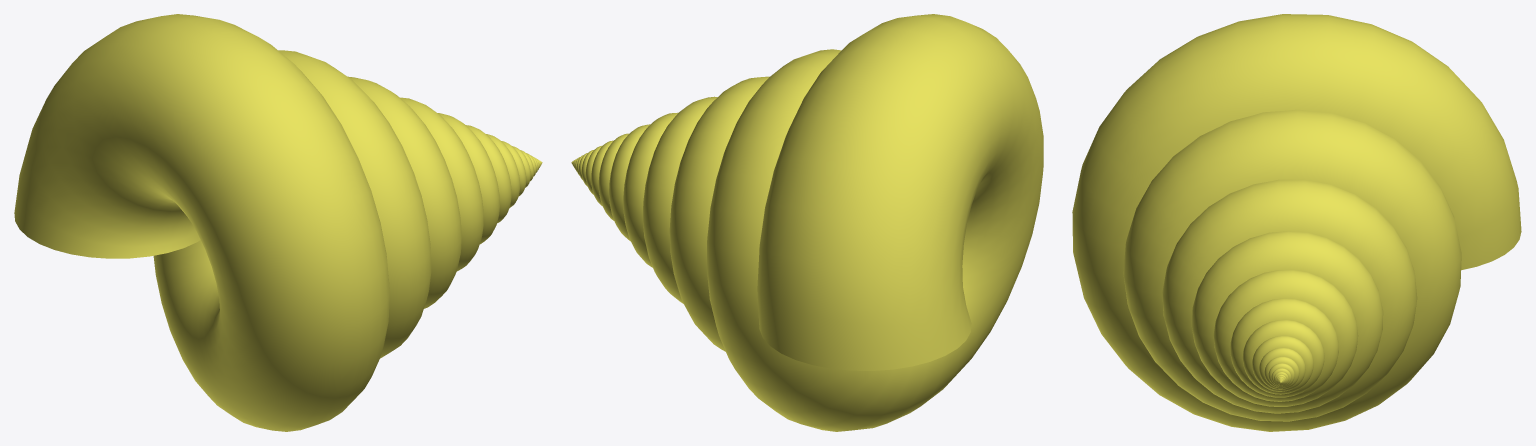
3 views of the same model, side by side, from view 1: azimuth 30°, elevation 25°; view 2: azimuth 150°, elevation 25°; view 3: azimuth 270°, elevation 25° (orthographic). The views are drawn at different scales.
Parts seen in each view (by area): view 1: t28; view 2: t28; view 3: t28.
Part boxes in pixels (<box>): t28: <box>14,14,542,431</box>; t28: <box>571,14,1043,431</box>; t28: <box>1072,14,1521,431</box>.
Size of the model in its own units: 500 by 417 by 447.
